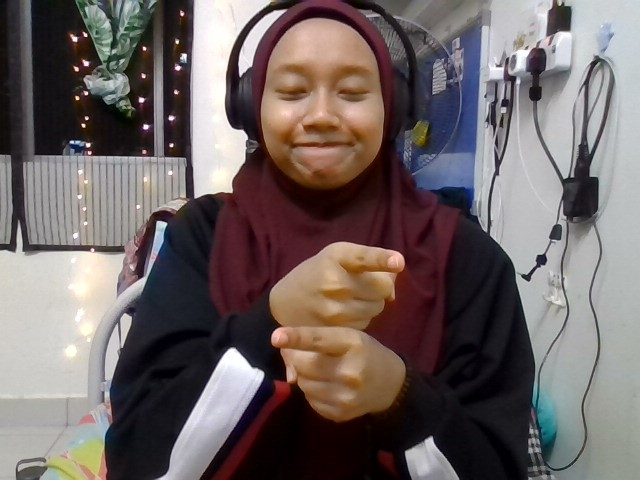Betul: (272, 241, 405, 423)
